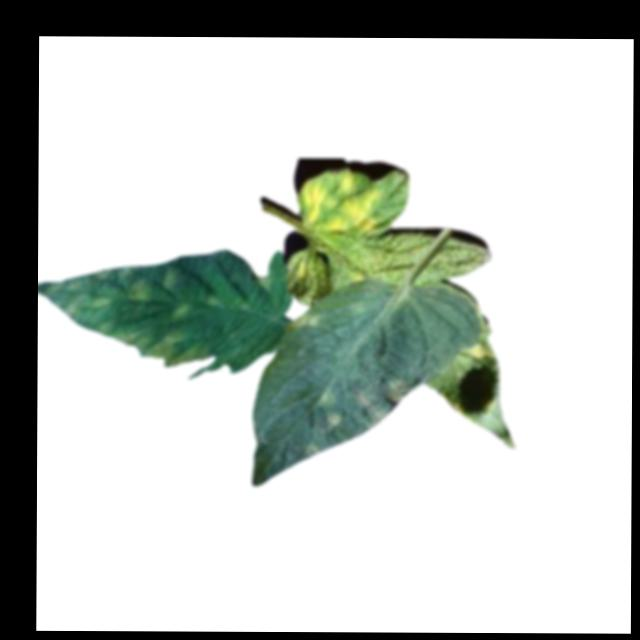Leaf_Mold: (300, 167, 381, 238), (105, 322, 210, 369), (355, 374, 414, 424), (313, 391, 341, 432), (125, 276, 156, 306), (157, 264, 182, 293), (288, 310, 322, 330)
